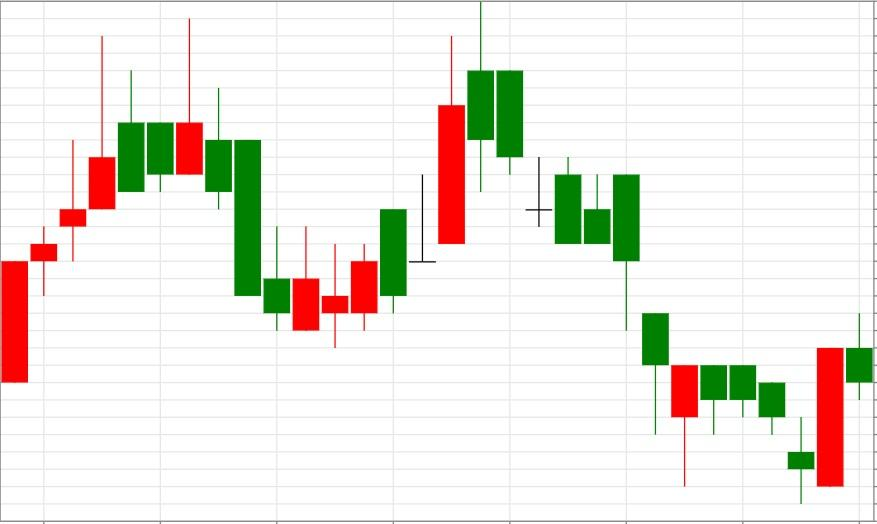shooting_star_fall: (0, 18, 204, 383)
